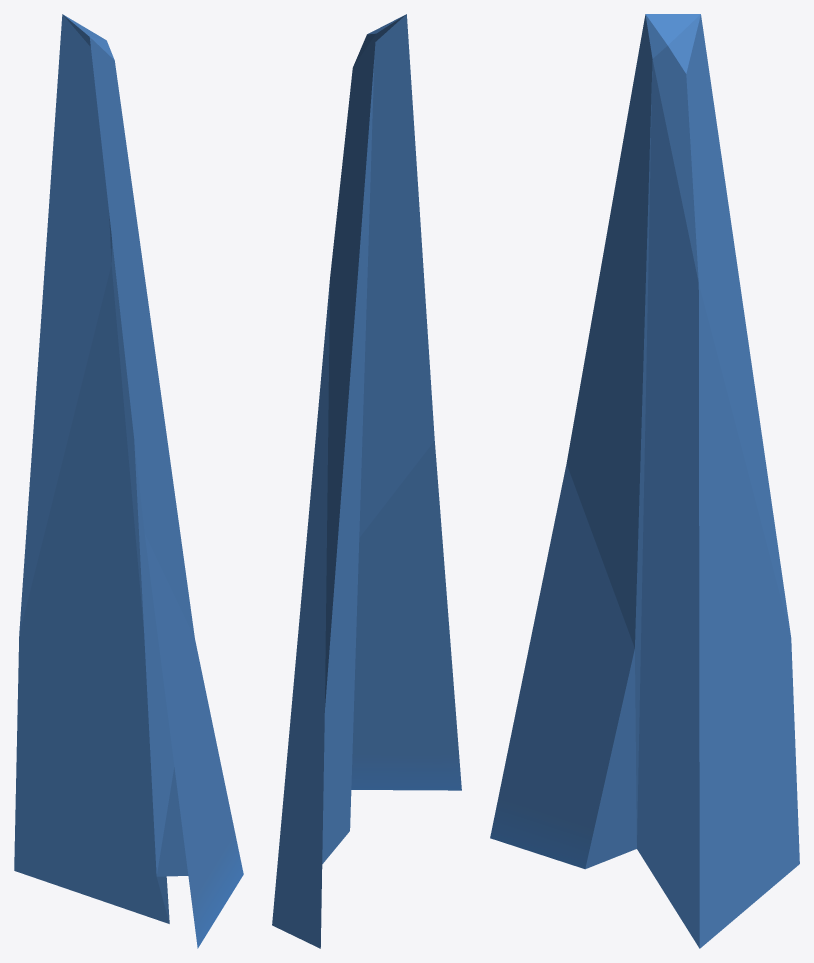
Rendered from Bathroom2_towel4.fbx.
3 renders of one model, left to right at view 1: azimuth 30°, elevation 25°; view 2: azimuth 150°, elevation 25°; view 3: azimuth 270°, elevation 25°, orthographic. The views are drawn at different scales.
Visible parts, largest first — view 1: Bathroom2_towel4; view 2: Bathroom2_towel4; view 3: Bathroom2_towel4.
Boxes of the visible parts, left/top/right/bottom form: Bathroom2_towel4: left=14, top=14, right=243, bottom=948; Bathroom2_towel4: left=272, top=14, right=461, bottom=948; Bathroom2_towel4: left=490, top=14, right=799, bottom=948.
Size of the model in its own units: 21.36 by 156 by 49.55.
